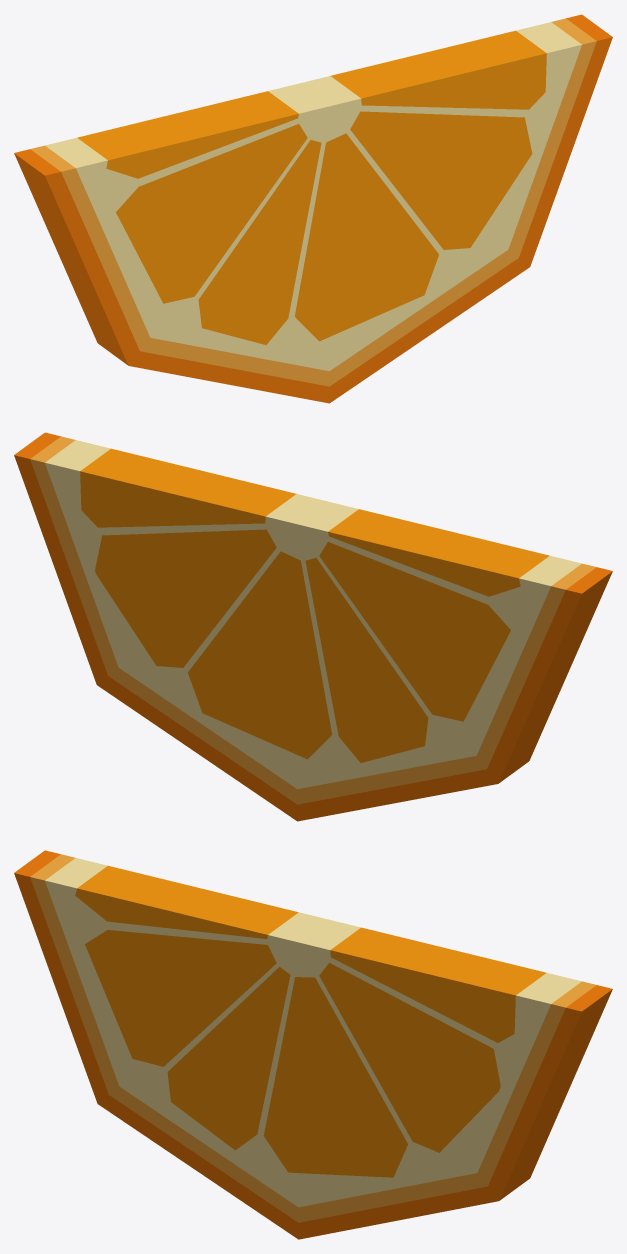
File: Orange slice.obj
The picture shows the model from 3 angles, top to bottom: view 1: azimuth 30°, elevation 25°; view 2: azimuth 150°, elevation 25°; view 3: azimuth 330°, elevation 25°; orthographic projection.
Parts seen in each view (by area): view 1: Orange slice_0; view 2: Orange slice_0; view 3: Orange slice_0.
Part boxes in pixels (x1,y1,x2,y2): Orange slice_0: [14, 14, 612, 403]; Orange slice_0: [14, 432, 612, 821]; Orange slice_0: [14, 850, 612, 1239].
Size of the model in its own units: 0.5636 by 0.2818 by 0.0533.
1 material, 1 textured.
